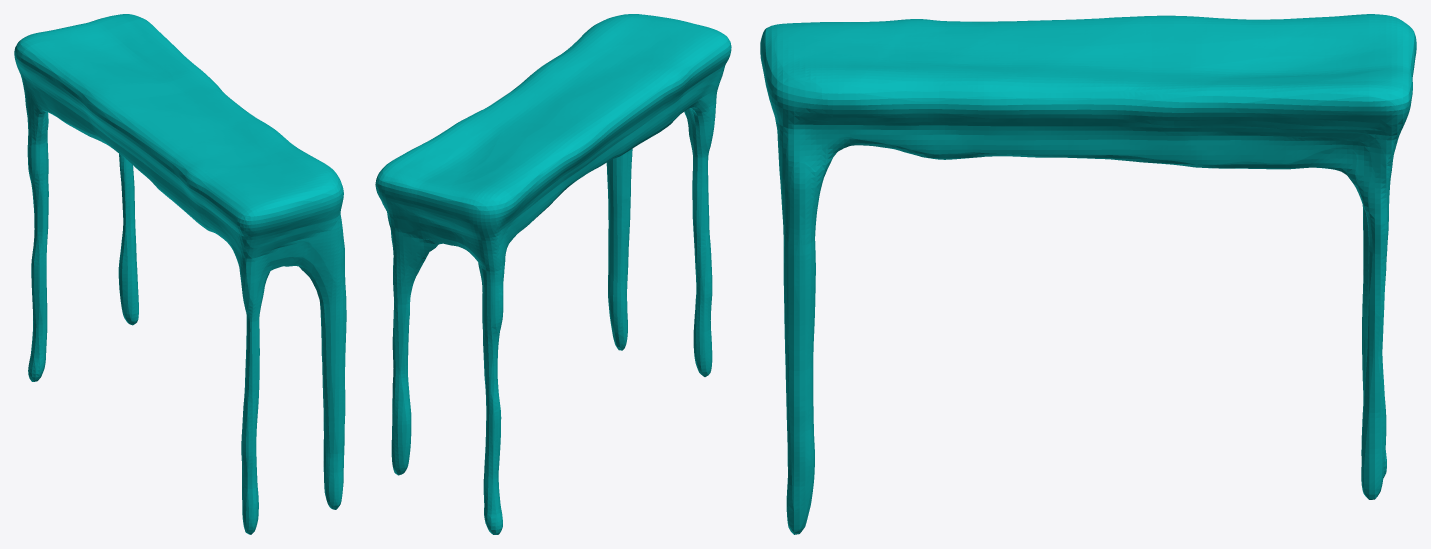
3 renders of one model, left to right at view 1: azimuth 30°, elevation 25°; view 2: azimuth 150°, elevation 25°; view 3: azimuth 270°, elevation 25°, orthographic. The views are drawn at different scales.
Bounding box in the file's own units: 0.3137 × 0.7966 × 1.02.
